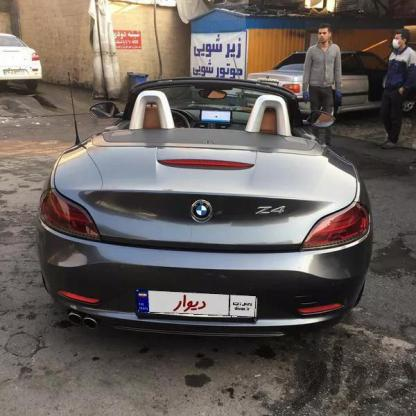Car: (42, 75, 380, 355), (242, 39, 413, 118), (0, 36, 63, 94)
